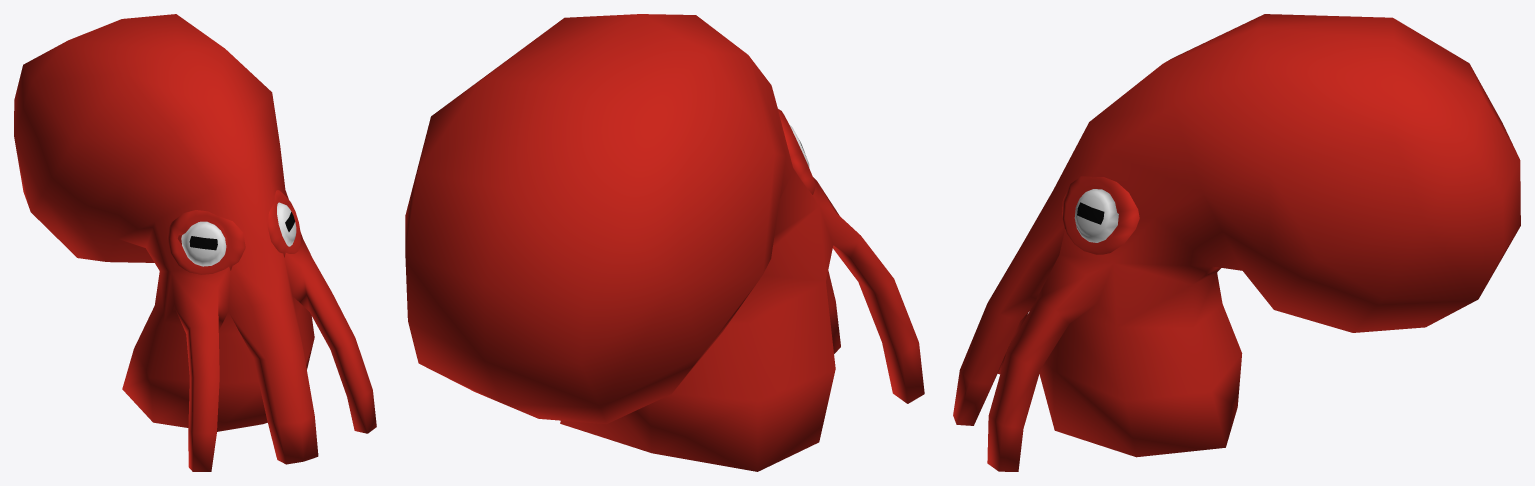
Rendered from OctopusHead.fbx.
3 renders of one model, left to right at view 1: azimuth 30°, elevation 25°; view 2: azimuth 150°, elevation 25°; view 3: azimuth 270°, elevation 25°, orthographic. The views are drawn at different scales.
Parts seen in each view (by area): view 1: Cube; view 2: Cube; view 3: Cube.
Boxes of the visible parts, x1=… form: Cube: x1=14, y1=14, x2=376, y2=471; Cube: x1=405, y1=14, x2=924, y2=471; Cube: x1=953, y1=14, x2=1520, y2=471.
Bounding box in the file's own units: 313 × 439 × 571.
